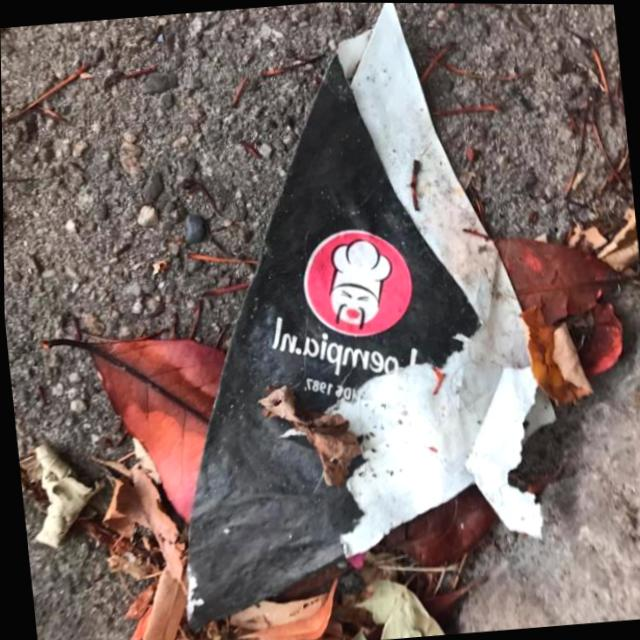Paper: (116, 1, 575, 640)
